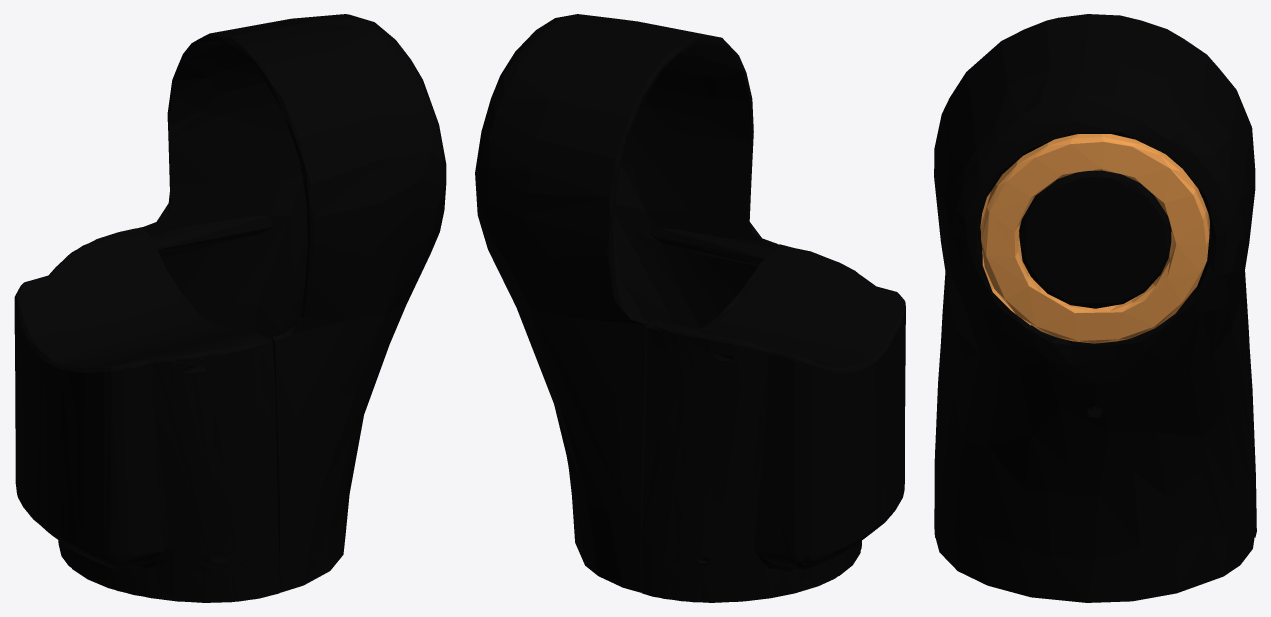
Rendered from arm_2.dae.
3 renders of one model, left to right at view 1: azimuth 30°, elevation 25°; view 2: azimuth 150°, elevation 25°; view 3: azimuth 270°, elevation 25°, orthographic. The views are drawn at different scales.
Parts seen in each view (by area): view 1: arm_2; view 2: arm_2; view 3: arm_2.
Part boxes in pixels (x1,y1,x2,y2): arm_2: [14, 14, 446, 602]; arm_2: [475, 14, 905, 602]; arm_2: [934, 14, 1256, 602].
Size of the model in its own units: 0.1635 by 0.1181 by 0.2187.
